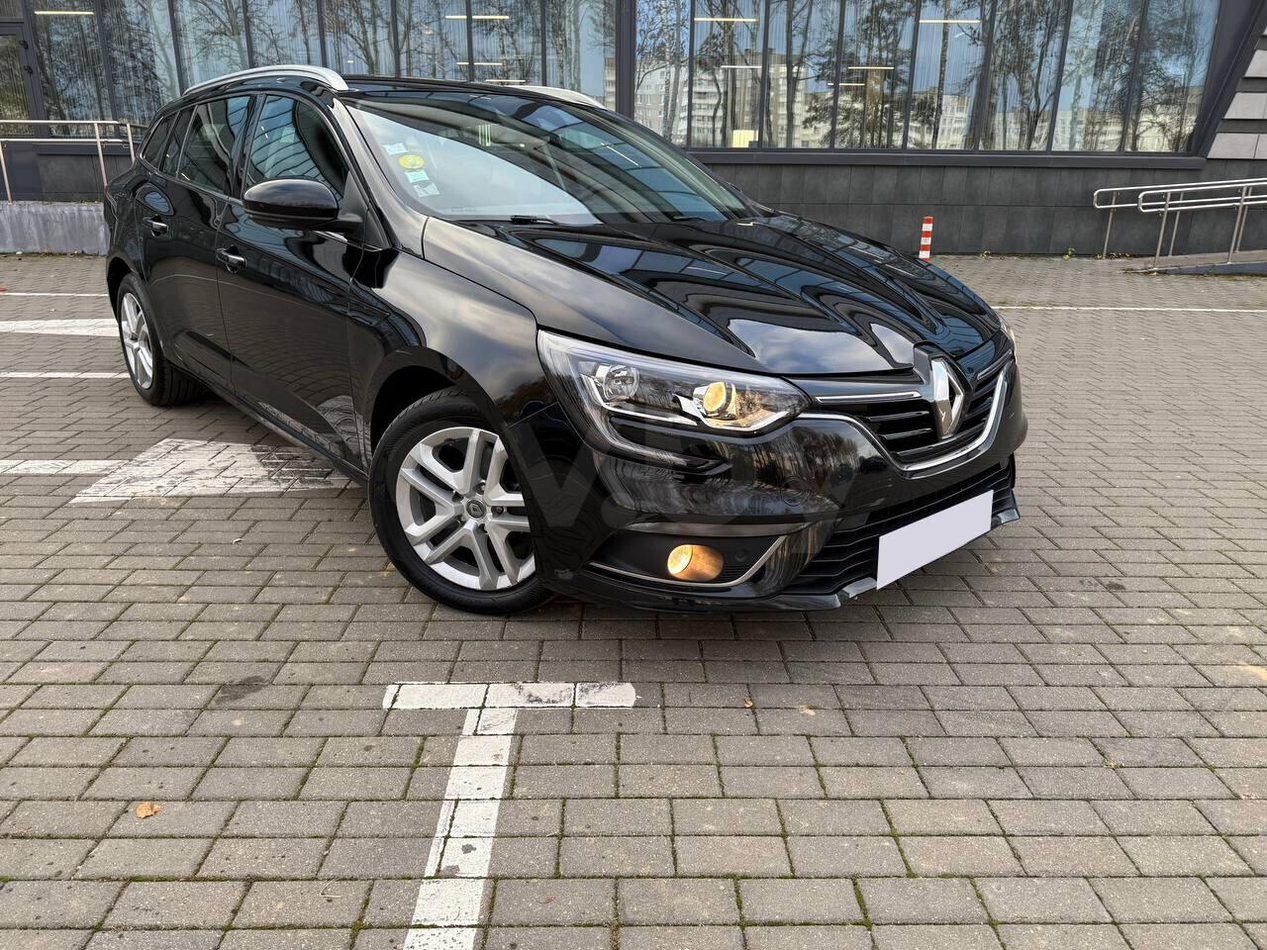Megane_2016-2020: (99, 63, 1028, 646)
